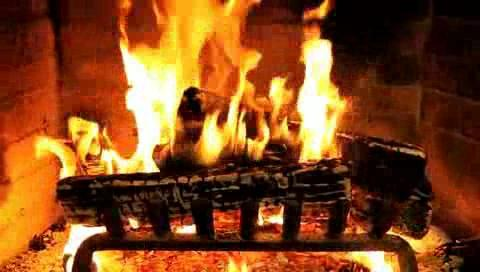fire: (104, 2, 339, 163)
